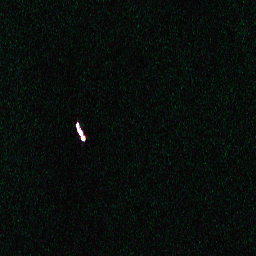ship: (73, 121, 88, 143)
